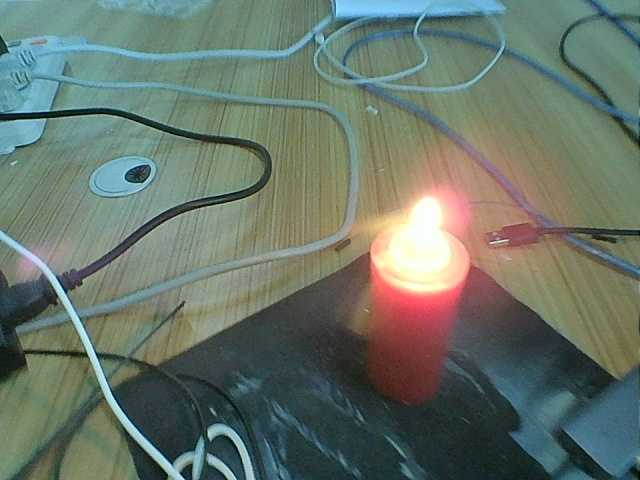candle: (358, 287, 479, 405)
fire: (366, 196, 472, 285)
